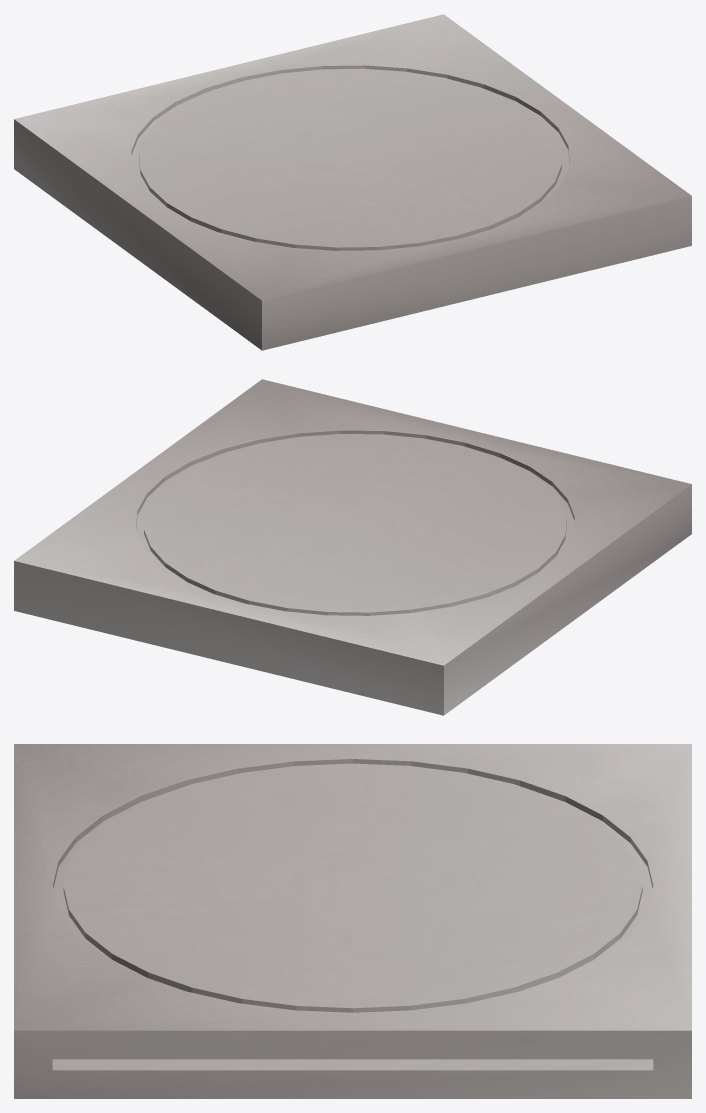
File: cd_dvd2.obj
The picture shows the model from 3 angles, top to bottom: view 1: azimuth 30°, elevation 25°; view 2: azimuth 150°, elevation 25°; view 3: azimuth 270°, elevation 25°; orthographic projection. The views are drawn at different scales.
Visible parts, largest first — view 1: Cube; view 2: Cube; view 3: Cube.
Boxes of the visible parts, x1,y1,x2,y2 form: Cube: [14, 14, 691, 350]; Cube: [14, 379, 691, 715]; Cube: [14, 744, 691, 1098].
Size of the model in its own units: 13.5 by 1.5 by 13.5.
1 material, 1 textured.
